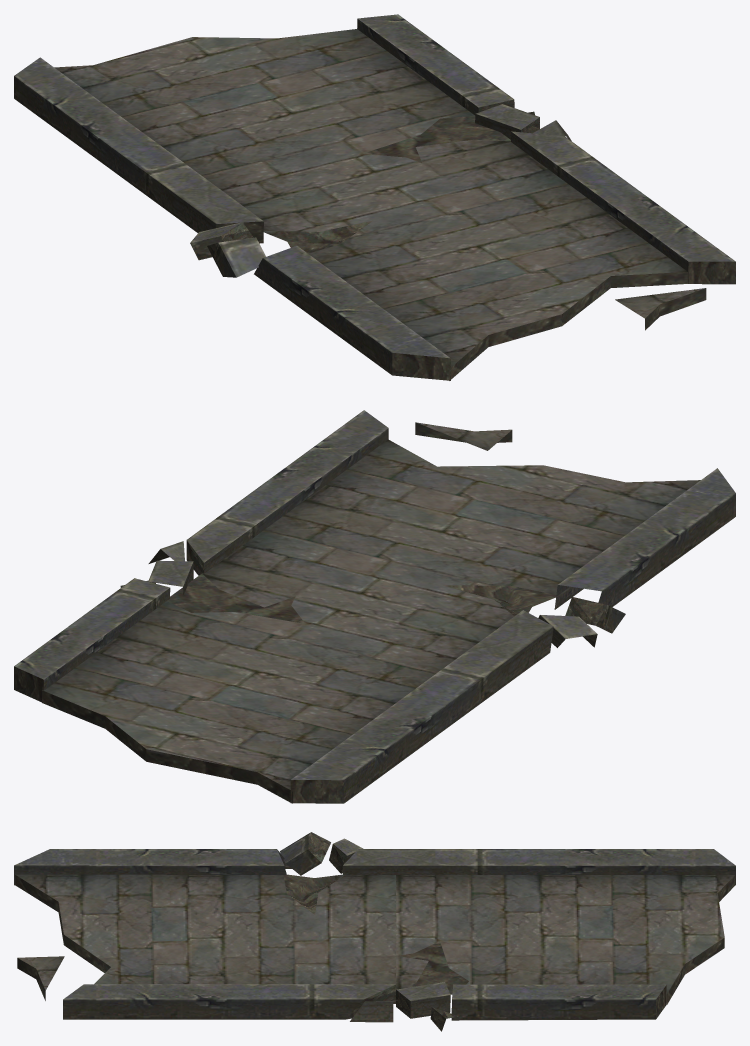
Rendered from fb_yanwanggumu_lumian.FBX.
3 views of the same model, one above another, from view 1: azimuth 30°, elevation 25°; view 2: azimuth 150°, elevation 25°; view 3: azimuth 270°, elevation 25° (orthographic). The views are drawn at different scales.
Visible parts, largest first — view 1: fb_yanwanggumu_lumian; view 2: fb_yanwanggumu_lumian; view 3: fb_yanwanggumu_lumian.
Part boxes in pixels (x1=…): fb_yanwanggumu_lumian: x1=14, y1=14, x2=735, y2=380; fb_yanwanggumu_lumian: x1=14, y1=410, x2=735, y2=803; fb_yanwanggumu_lumian: x1=14, y1=832, x2=735, y2=1031.
Bounding box in the file's own units: 430 × 35.95 × 754.
Materials: 1 (1 with a texture image).
